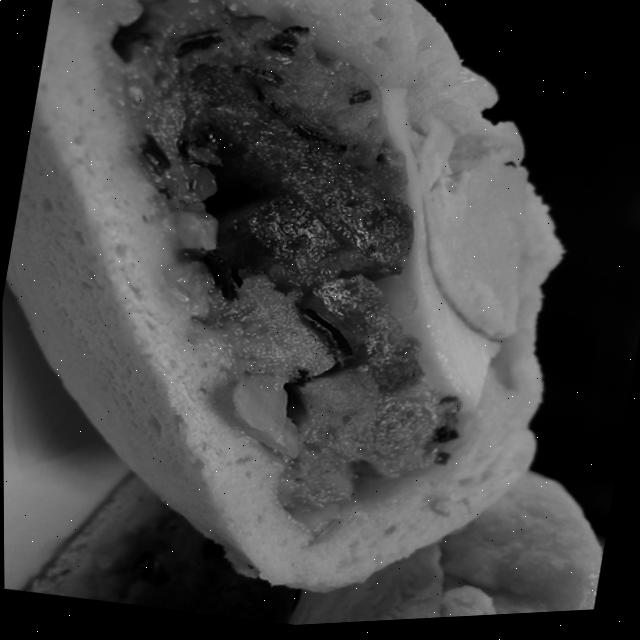带馅早点: (0, 0, 629, 639)
